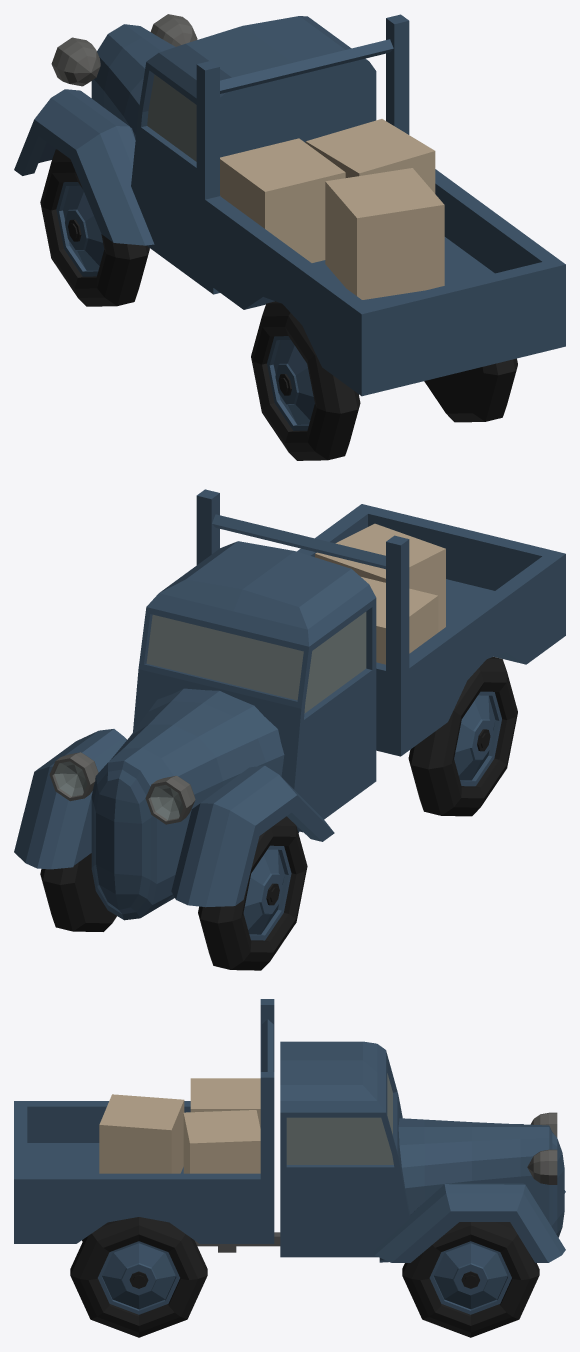
File: truck-kun.fbx
3 renders of one model, top to bottom at view 1: azimuth 30°, elevation 25°; view 2: azimuth 150°, elevation 25°; view 3: azimuth 270°, elevation 25°, orthographic. The views are drawn at different scales.
Visible parts, largest first — view 1: pCube347; view 2: pCube347; view 3: pCube347.
Boxes of the visible parts, left/top/right/bottom form: pCube347: left=14, top=14, right=565, bottom=460; pCube347: left=14, top=489, right=565, bottom=970; pCube347: left=14, top=999, right=565, bottom=1337.
Size of the model in its own units: 274 by 400 by 753.
